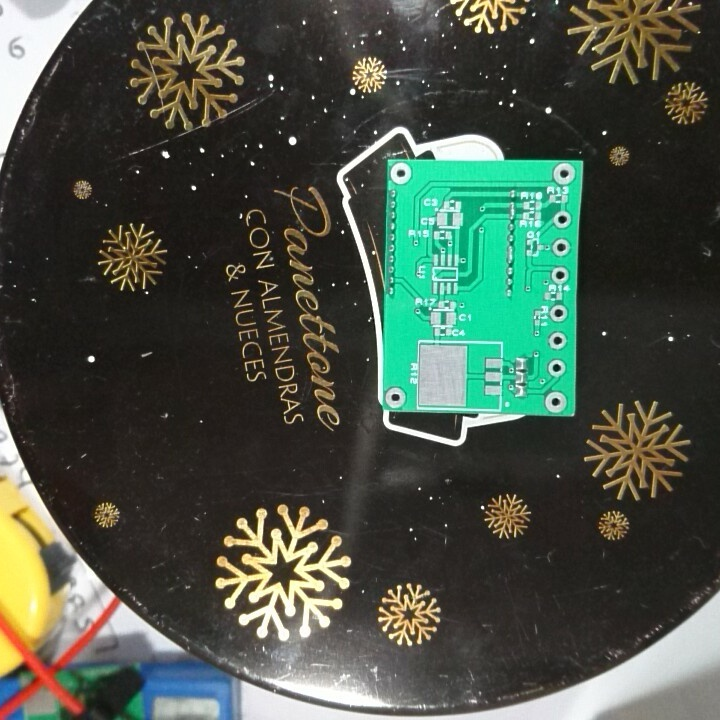F: (389, 160, 415, 187), (541, 389, 570, 412), (552, 162, 576, 186), (384, 386, 409, 407), (550, 237, 572, 258), (547, 329, 568, 351), (546, 357, 568, 378), (553, 208, 573, 230), (549, 303, 569, 322), (551, 265, 571, 283)
P: (504, 243, 517, 264), (507, 201, 519, 222)
